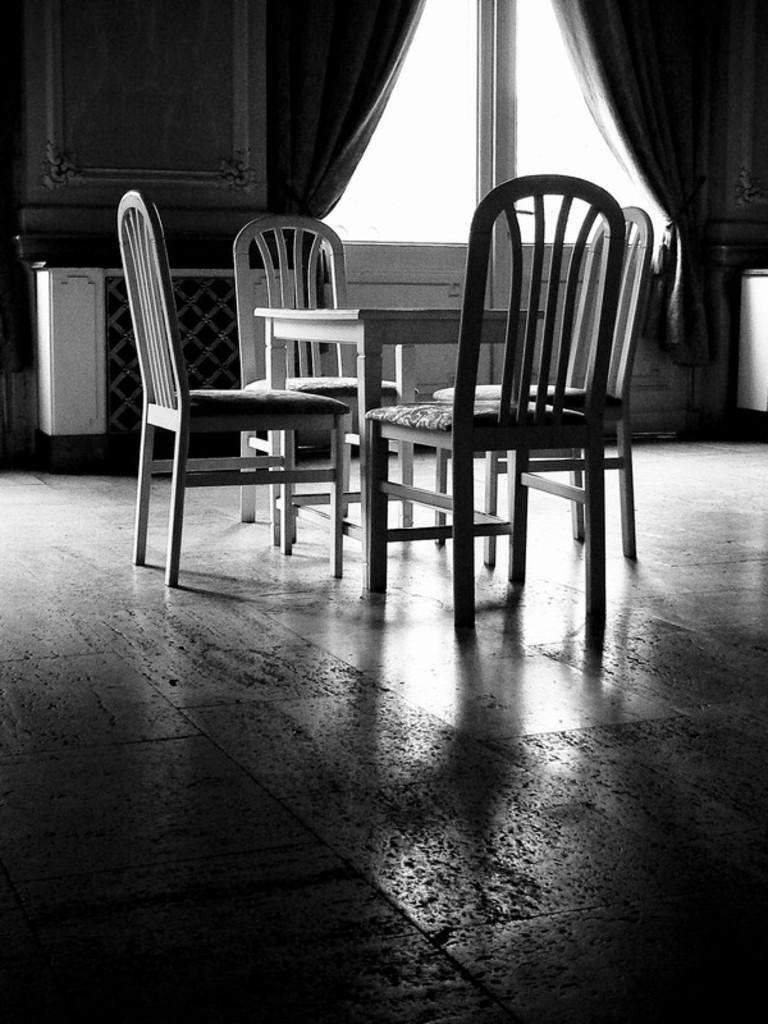Chair: (363, 173, 627, 627), (115, 188, 350, 587), (232, 213, 410, 558)
